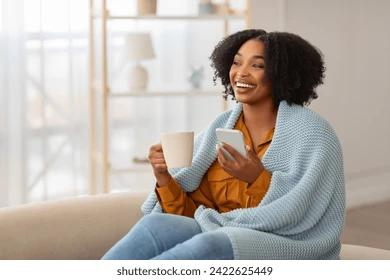blanket: (140, 99, 346, 260)
long sleeve shirt: (154, 112, 276, 216)
trousers: (99, 212, 234, 259)
